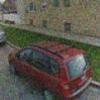cars: (9, 42, 92, 100)
